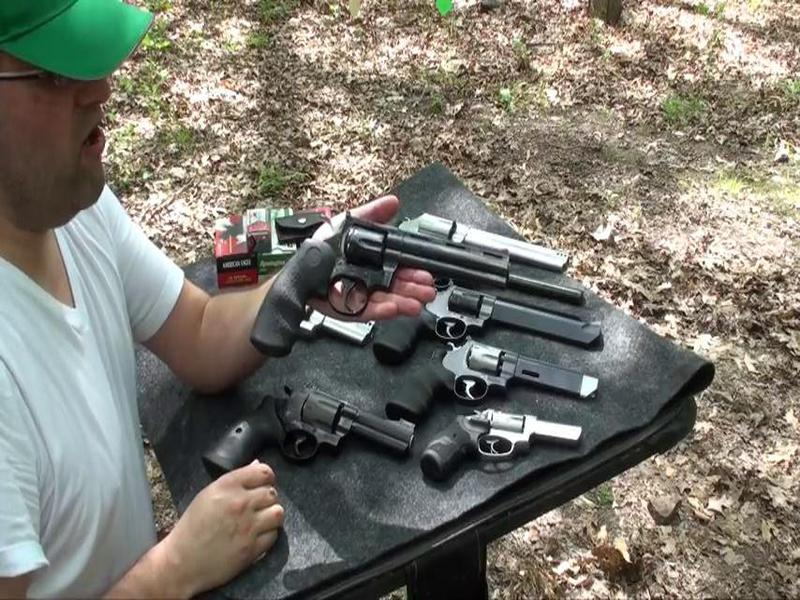Revolver: (227, 198, 527, 393)
